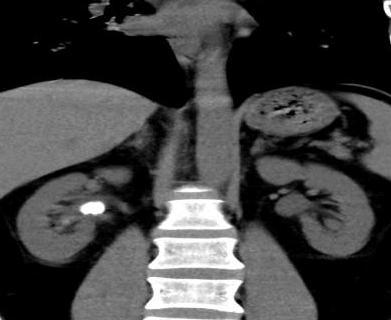Tas_Var: (77, 196, 107, 220)
